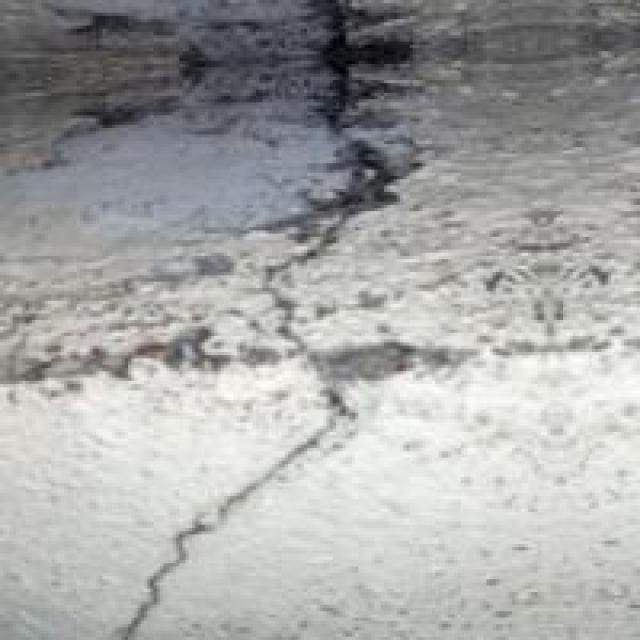Crack: (45, 326, 381, 637)
